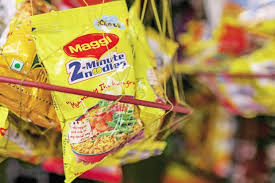maggi: (59, 1, 121, 159)
